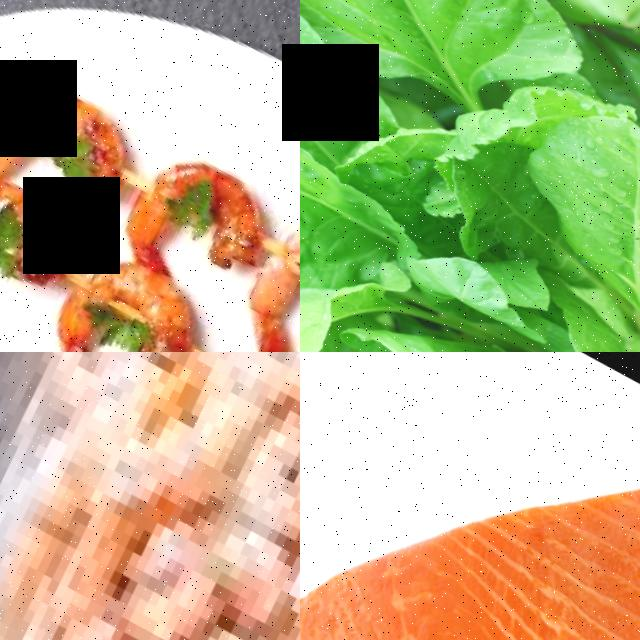salmon: (300, 352, 640, 640)
shrimp: (115, 118, 285, 289), (0, 49, 145, 222), (26, 226, 210, 352), (0, 163, 75, 352), (235, 178, 300, 352)
spinach: (503, 77, 640, 330), (300, 0, 599, 111), (300, 0, 405, 168), (300, 59, 363, 273), (515, 268, 640, 352)
